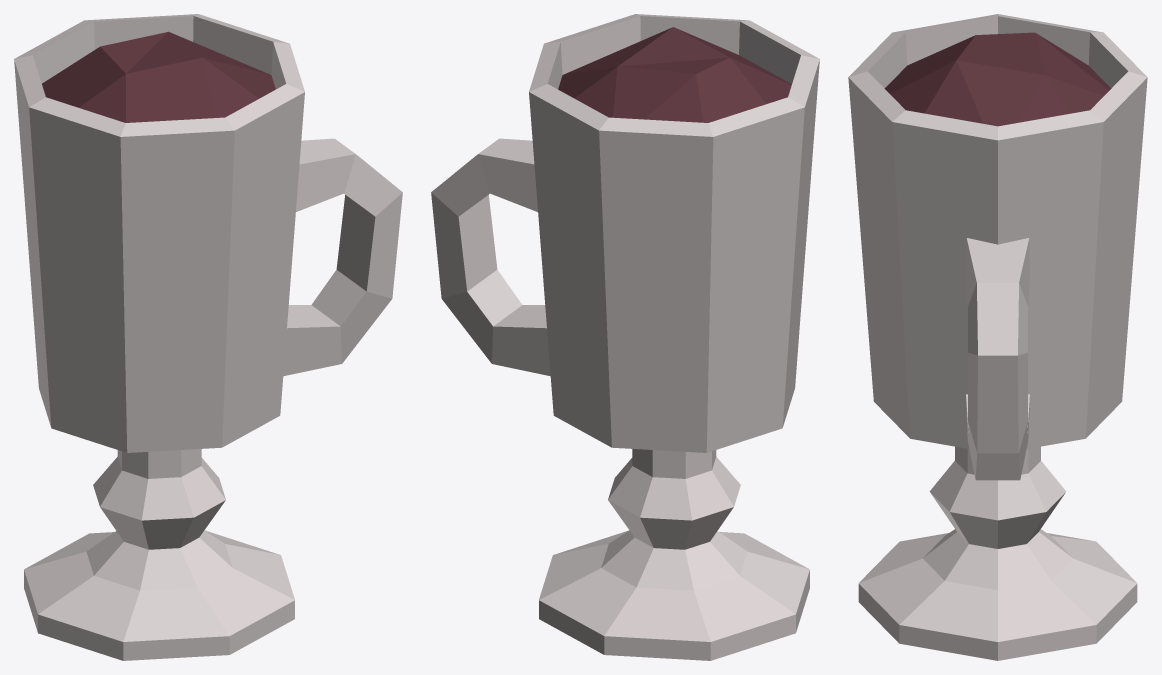
The model's file is glass-irish-coffee.fbx.
3 renders of one model, left to right at view 1: azimuth 30°, elevation 25°; view 2: azimuth 150°, elevation 25°; view 3: azimuth 270°, elevation 25°, orthographic.
Parts seen in each view (by area): view 1: glass-irish-coffee; view 2: glass-irish-coffee; view 3: glass-irish-coffee.
Boxes of the visible parts, x1,y1,x2,y2 form: glass-irish-coffee: (14, 14, 402, 660); glass-irish-coffee: (431, 14, 819, 660); glass-irish-coffee: (848, 14, 1147, 660).
Bounding box in the file's own units: 0.1056 × 0.1543 × 0.0758.
